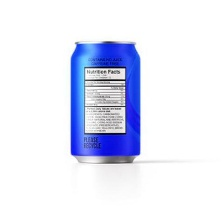can: (60, 36, 145, 172)
